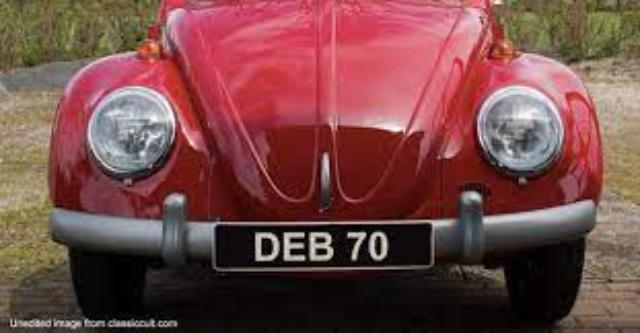License_Plate: (213, 223, 436, 271)
car: (51, 1, 606, 333)
